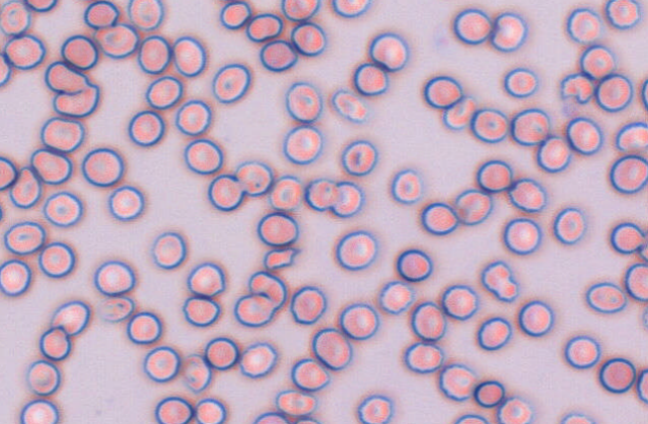RBC: (311, 327, 352, 370), (335, 229, 377, 270), (80, 147, 124, 186), (39, 116, 84, 153), (282, 124, 323, 164), (284, 80, 322, 123), (94, 22, 139, 58), (368, 31, 408, 71), (211, 62, 250, 103), (609, 154, 648, 194), (510, 107, 550, 146), (338, 302, 379, 340), (490, 11, 528, 52), (93, 259, 135, 296), (30, 147, 72, 184), (256, 211, 299, 247), (409, 300, 446, 341), (42, 190, 83, 227), (595, 73, 633, 112), (565, 116, 603, 155), (4, 33, 45, 69), (233, 292, 275, 327), (171, 35, 206, 77), (3, 220, 45, 255), (438, 363, 476, 401), (234, 159, 273, 196), (289, 285, 326, 324), (502, 217, 541, 254), (453, 7, 492, 44), (50, 300, 90, 336), (183, 138, 223, 174), (8, 165, 41, 208), (239, 341, 277, 378), (207, 173, 244, 211), (454, 188, 492, 225), (142, 345, 180, 382), (565, 6, 602, 44), (186, 261, 225, 297), (469, 107, 508, 143), (507, 177, 547, 212), (441, 283, 478, 320), (38, 241, 75, 278), (127, 109, 164, 146), (340, 139, 377, 176), (330, 87, 368, 123), (60, 34, 98, 70), (518, 299, 554, 337), (598, 357, 636, 393), (150, 231, 186, 269), (290, 357, 330, 391), (137, 34, 171, 74), (585, 281, 627, 313), (107, 185, 144, 221), (174, 99, 211, 135), (267, 174, 302, 211), (25, 359, 60, 396), (564, 334, 601, 369), (579, 44, 616, 79), (536, 135, 571, 172), (420, 201, 458, 235), (145, 75, 183, 109), (552, 206, 586, 244), (423, 75, 462, 108), (403, 341, 443, 373), (290, 21, 326, 56), (330, 180, 364, 217), (378, 280, 415, 314), (395, 248, 432, 282), (259, 39, 297, 72), (179, 353, 211, 392), (181, 295, 220, 327), (441, 95, 476, 130), (476, 316, 512, 350), (303, 177, 338, 211), (204, 336, 239, 370), (609, 221, 645, 254), (126, 311, 162, 344), (476, 159, 512, 192), (390, 168, 423, 204), (0, 258, 31, 296), (274, 389, 316, 417), (38, 325, 71, 360), (353, 62, 388, 95), (503, 66, 538, 98), (0, 0, 31, 36), (356, 393, 393, 423), (245, 12, 282, 42), (496, 395, 534, 424), (154, 395, 193, 423), (127, 0, 163, 30), (604, 0, 641, 29), (615, 121, 647, 154), (83, 0, 119, 29), (97, 295, 134, 322), (19, 398, 58, 423), (219, 0, 251, 29), (624, 262, 647, 301), (473, 379, 505, 407), (280, 0, 320, 21), (194, 397, 226, 423), (331, 0, 372, 17), (0, 155, 17, 190), (636, 367, 648, 404), (252, 411, 289, 423), (559, 411, 596, 423), (24, 0, 57, 12), (0, 52, 11, 87), (453, 413, 489, 423), (638, 233, 648, 262), (640, 77, 648, 111), (0, 28, 9, 54), (641, 303, 648, 331), (294, 416, 321, 423), (213, 0, 240, 5), (0, 201, 4, 224), (71, 0, 99, 3)
Schistocyte: (53, 83, 99, 116), (483, 260, 518, 303), (46, 61, 92, 91), (561, 71, 595, 102), (264, 247, 304, 271)
